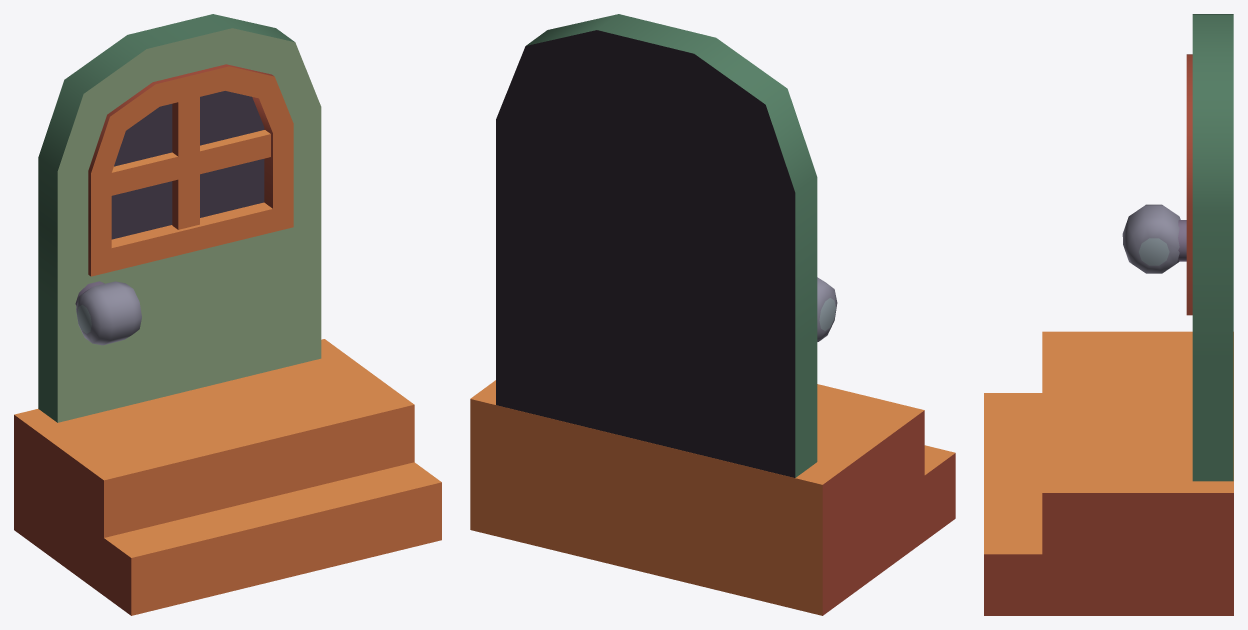
Rendered from Door01_Green_Wood.glb.
3 views of the same model, side by side, from view 1: azimuth 30°, elevation 25°; view 2: azimuth 150°, elevation 25°; view 3: azimuth 270°, elevation 25° (orthographic). The views are drawn at different scales.
Visible parts, largest first — view 1: Door01_Green_Wood; view 2: Door01_Green_Wood; view 3: Door01_Green_Wood.
Boxes of the visible parts, x1,y1,x2,y2 form: Door01_Green_Wood: (14, 14, 441, 615); Door01_Green_Wood: (470, 14, 955, 615); Door01_Green_Wood: (984, 14, 1233, 615).
Size of the model in its own units: 0.9795 by 1.41 by 0.6407.
Materials: 1 (1 with a texture image).
